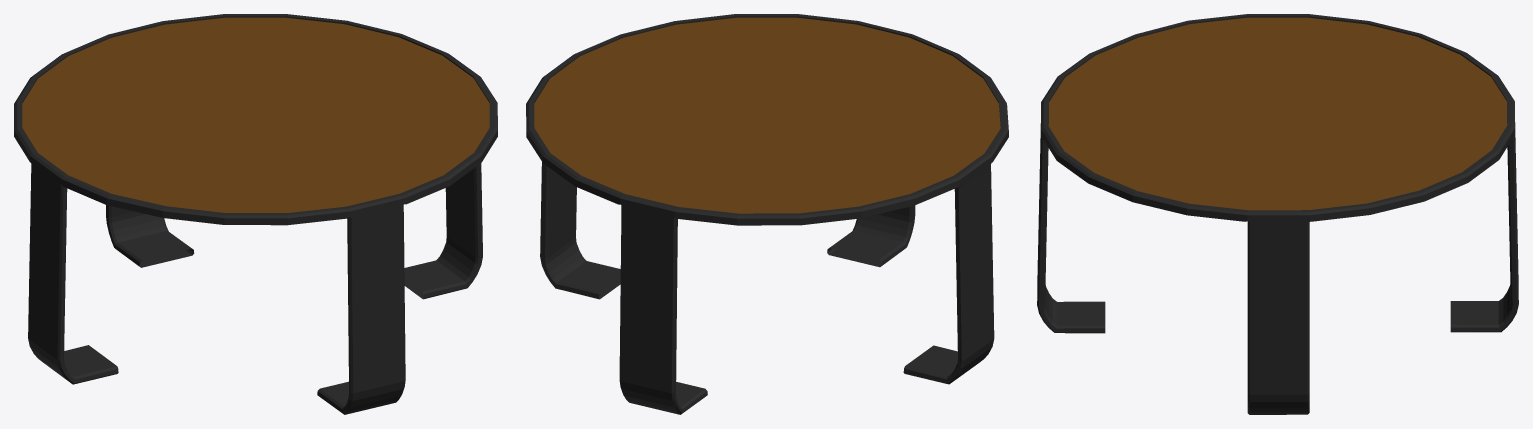
The model's file is CoffeeTable_6.fbx.
3 renders of one model, left to right at view 1: azimuth 30°, elevation 25°; view 2: azimuth 150°, elevation 25°; view 3: azimuth 270°, elevation 25°, orthographic.
Parts seen in each view (by area): view 1: CoffeeTable6; view 2: CoffeeTable6; view 3: CoffeeTable6.
Part boxes in pixels (x1,y1,x2,y2): CoffeeTable6: (14,14,497,414); CoffeeTable6: (526,14,1008,414); CoffeeTable6: (1037,14,1518,414).
Size of the model in its own units: 329 by 156 by 328.
